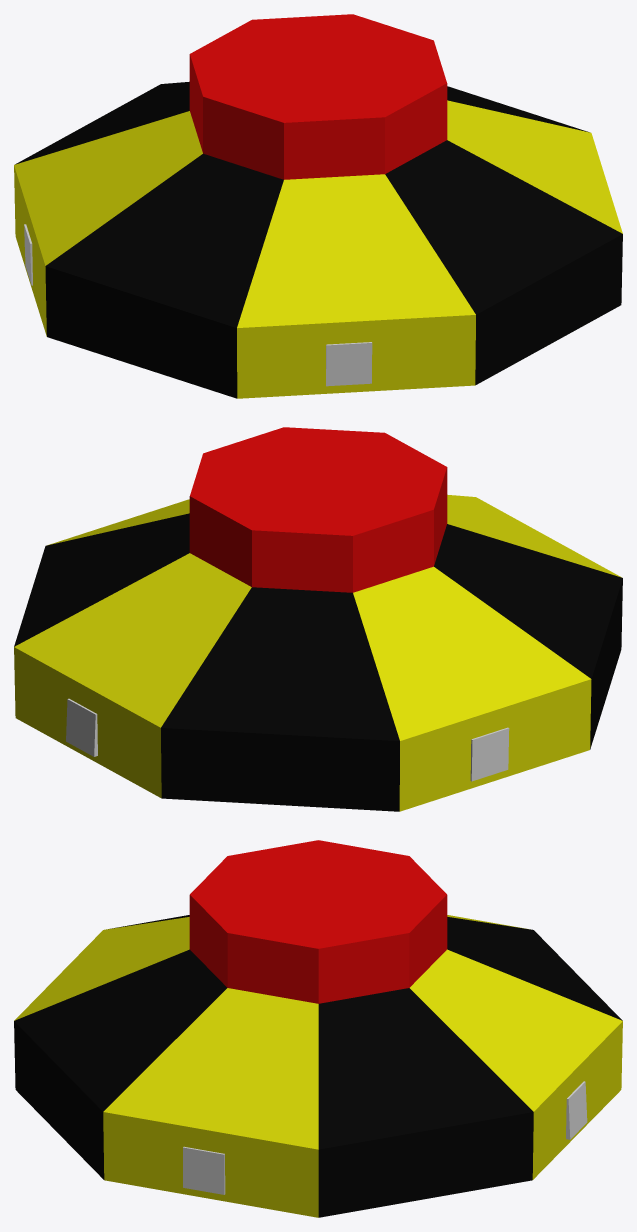
Rendered from LandMine.fbx.
3 views of the same model, one above another, from view 1: azimuth 30°, elevation 25°; view 2: azimuth 150°, elevation 25°; view 3: azimuth 270°, elevation 25° (orthographic). The views are drawn at different scales.
Visible parts, largest first — view 1: pCylinder1, pCube1; view 2: pCylinder1, pCube1 (×2); view 3: pCylinder1, pCube1 (×2).
Boxes of the visible parts, bbox=[...] form: pCylinder1: bbox=[14, 14, 622, 398]; pCube1: bbox=[326, 342, 372, 386]; pCylinder1: bbox=[14, 427, 622, 811]; pCube1 (×2): bbox=[66, 698, 509, 781]; pCylinder1: bbox=[14, 840, 622, 1217]; pCube1 (×2): bbox=[183, 1081, 587, 1194].
Size of the model in its own units: 0.0447 by 0.0158 by 0.0447.
